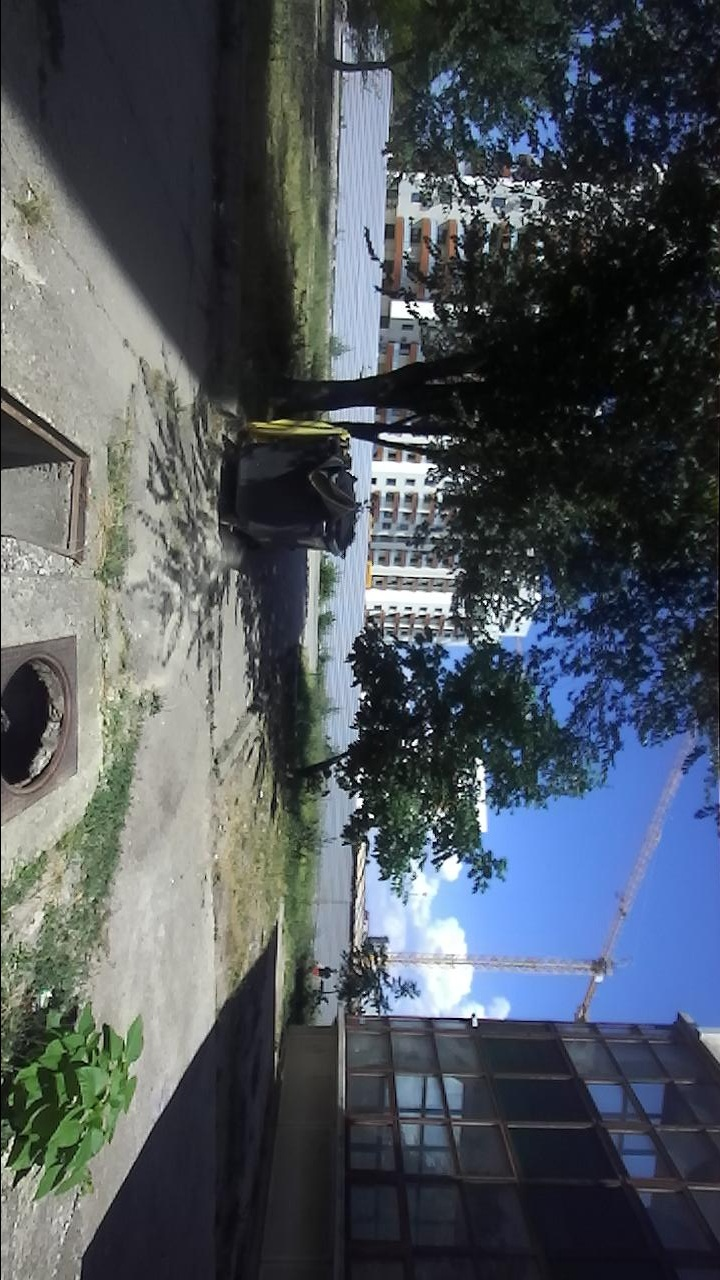drain: (0, 385, 93, 566), (0, 646, 77, 803)
